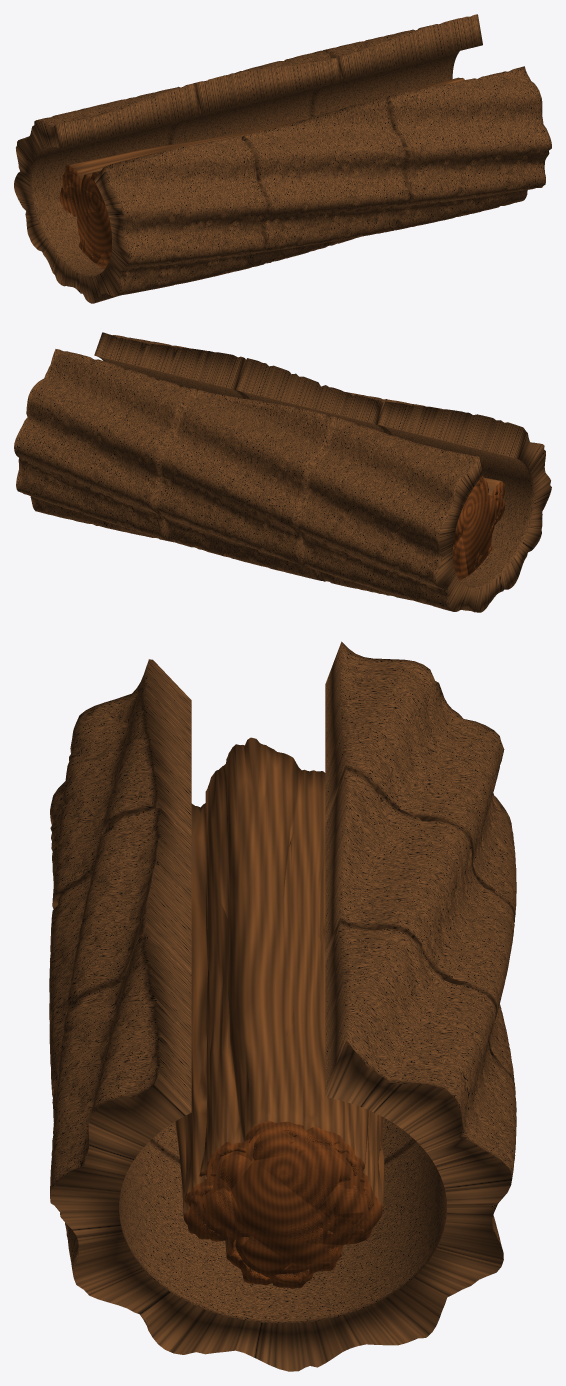
File: corkbark-18-lod0.gltf
The picture shows the model from 3 angles, top to bottom: view 1: azimuth 30°, elevation 25°; view 2: azimuth 150°, elevation 25°; view 3: azimuth 270°, elevation 25°; orthographic projection. The views are drawn at different scales.
Visible parts, largest first — view 1: cork sleeve 0 L0, cork sleeve 2 L0, cork sleeve 1 L0, corkbark pale inner deadwood; view 2: cork sleeve 0 L0, cork sleeve 2 L0, cork sleeve 1 L0, corkbark pale inner deadwood; view 3: cork sleeve 2 L0, corkbark pale inner deadwood, cork sleeve 1 L0, cork sleeve 0 L0.
Part boxes in pixels (x1,y1,x2,y2): cork sleeve 0 L0: (14, 83, 268, 303); cork sleeve 2 L0: (311, 14, 551, 230); cork sleeve 1 L0: (169, 50, 409, 269); corkbark pale inner deadwood: (59, 77, 464, 268); cork sleeve 0 L0: (296, 400, 551, 612); cork sleeve 2 L0: (14, 332, 247, 542); cork sleeve 1 L0: (154, 358, 393, 580); corkbark pale inner deadwood: (452, 474, 505, 580); cork sleeve 2 L0: (50, 922, 516, 1371); corkbark pale inner deadwood: (175, 737, 384, 1288); cork sleeve 1 L0: (49, 769, 514, 1162); cork sleeve 0 L0: (50, 641, 516, 916).
Size of the model in its own units: 1.57 by 0.5886 by 0.7533.
Materials: 3 (3 with a texture image).
